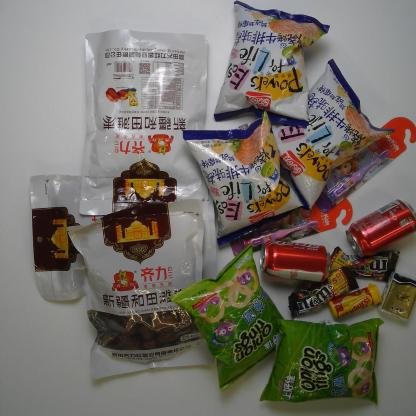Candy: (326, 282, 384, 324)
Chocolate: (285, 264, 361, 319), (323, 242, 400, 284)
Dried Food: (63, 197, 228, 383), (26, 169, 222, 307), (77, 27, 215, 220)
Drink: (344, 195, 416, 257), (252, 236, 333, 286)
Personal Hygiene: (303, 114, 416, 213), (219, 189, 355, 262)
Puffed Food: (253, 56, 401, 210), (168, 240, 294, 395), (181, 107, 313, 250), (214, 0, 332, 130), (258, 316, 384, 405)
Tissue: (378, 271, 416, 322)
